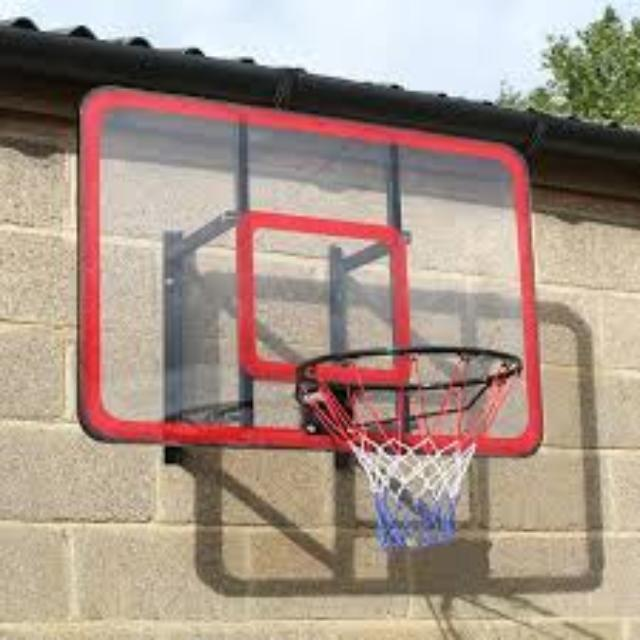rim: (296, 346, 520, 546)
